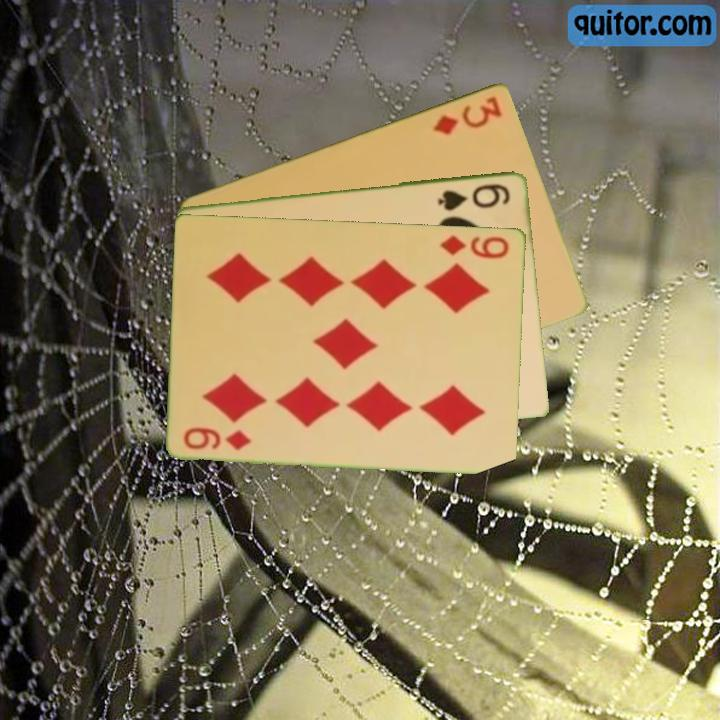3d: (430, 92, 505, 138)
6s: (434, 180, 514, 213)
9d: (438, 231, 513, 261), (180, 423, 255, 453)
